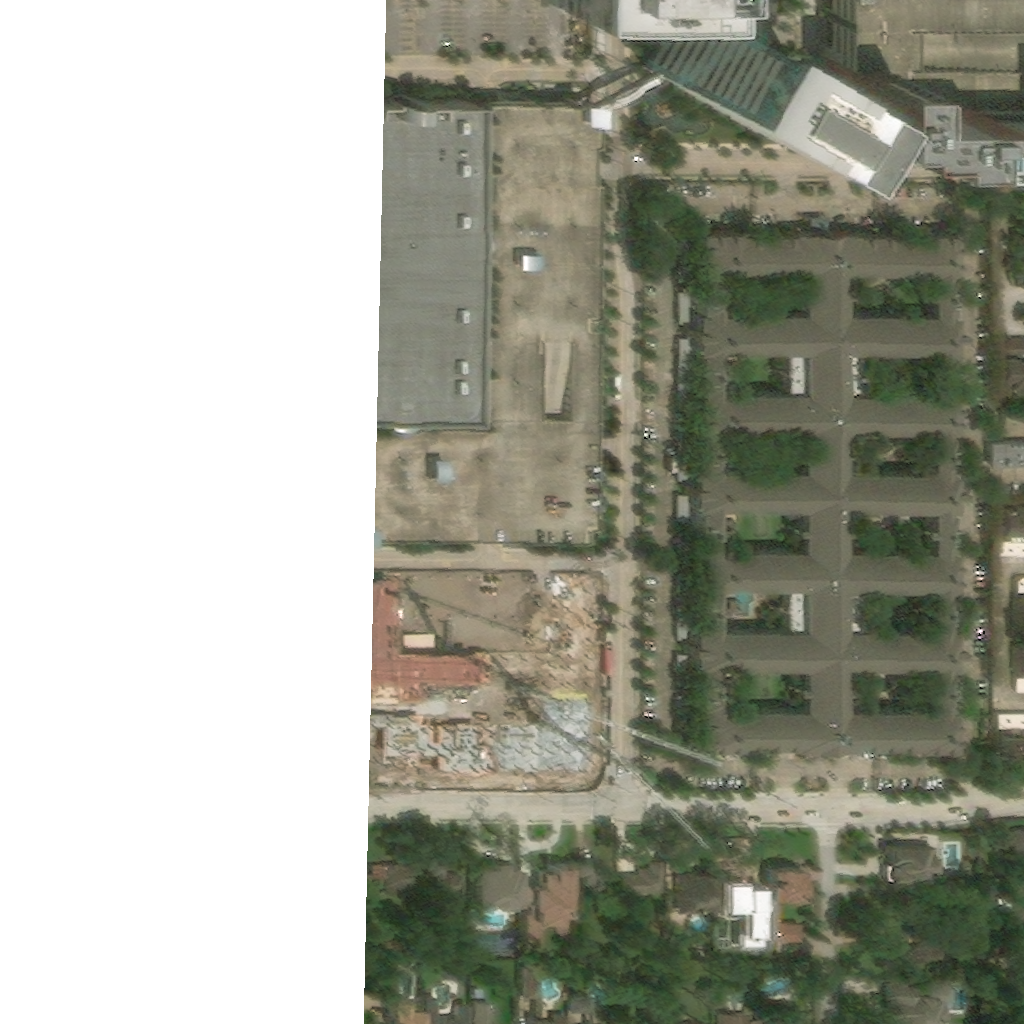no_damage: (696, 228, 957, 753), (379, 95, 595, 534), (382, 80, 477, 419), (831, 12, 1022, 147), (643, 0, 807, 141), (531, 860, 575, 934), (771, 864, 809, 949), (725, 879, 768, 952), (477, 860, 525, 918), (889, 987, 961, 1023), (891, 843, 945, 885), (888, 942, 937, 982), (435, 865, 471, 916), (623, 866, 672, 900), (681, 874, 717, 917), (924, 427, 956, 470), (378, 868, 416, 904), (924, 271, 956, 311), (924, 351, 956, 389), (924, 587, 955, 626), (924, 509, 955, 548), (696, 588, 726, 628), (925, 665, 954, 706), (696, 667, 725, 706), (1003, 506, 1022, 564), (1003, 343, 1022, 400), (428, 1000, 472, 1023), (697, 269, 721, 311), (392, 993, 425, 1023), (526, 970, 547, 1016), (586, 868, 616, 900), (696, 508, 719, 549), (696, 431, 720, 470), (697, 351, 721, 390), (993, 444, 1022, 475), (573, 1001, 600, 1023), (772, 1007, 808, 1023), (1003, 886, 1022, 911), (572, 90, 590, 112), (1004, 718, 1022, 736), (647, 1009, 667, 1023), (372, 1000, 387, 1018), (479, 1007, 495, 1023), (723, 1016, 742, 1023), (480, 995, 490, 1004), (556, 1018, 569, 1023), (530, 1017, 539, 1023)
